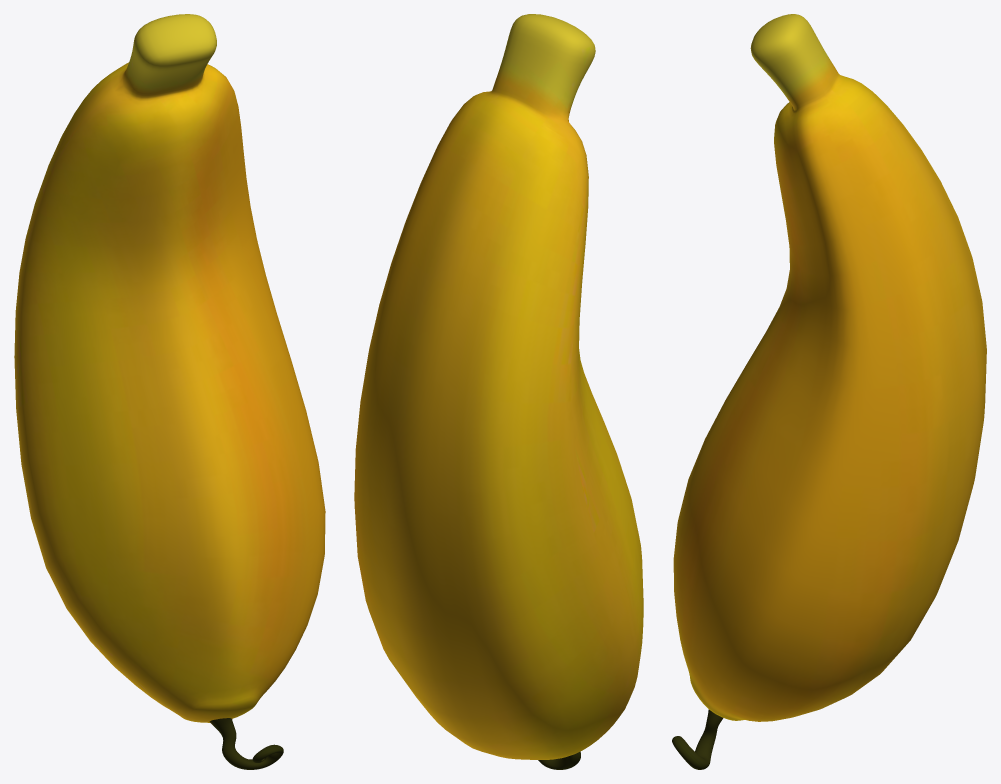
The model's file is Chuoi.fbx.
The picture shows the model from 3 angles, left to right: view 1: azimuth 30°, elevation 25°; view 2: azimuth 150°, elevation 25°; view 3: azimuth 270°, elevation 25°; orthographic projection. The views are drawn at different scales.
Visible parts, largest first — view 1: pasted__polySurface102; view 2: pasted__polySurface102; view 3: pasted__polySurface102.
Boxes of the visible parts, box(x1,y1,x2,y2) form: pasted__polySurface102: box(14, 14, 325, 769); pasted__polySurface102: box(354, 14, 643, 769); pasted__polySurface102: box(672, 14, 986, 769).
Size of the model in its own units: 1.17 by 3.26 by 1.28.
